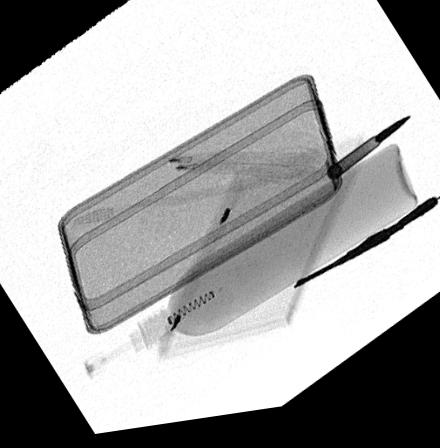Bullet: (325, 130, 411, 189)
Gun: (292, 209, 440, 299)
